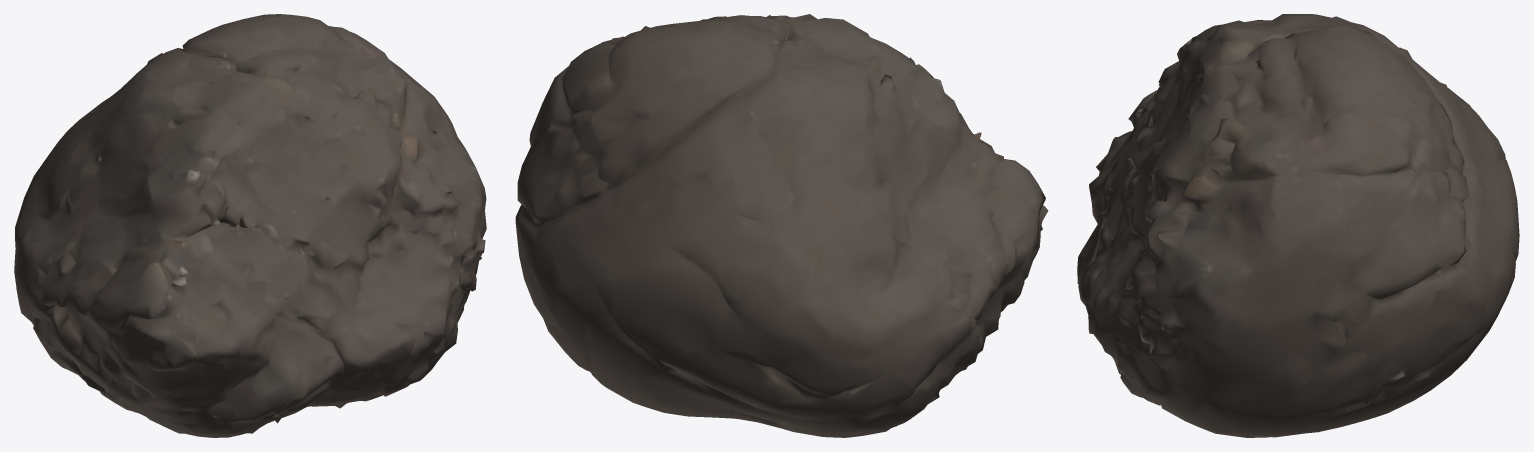
The model's file is stone.glb.
3 renders of one model, left to right at view 1: azimuth 30°, elevation 25°; view 2: azimuth 150°, elevation 25°; view 3: azimuth 270°, elevation 25°, orthographic. The views are drawn at different scales.
Parts seen in each view (by area): view 1: tripo_node_7ab4fa5d-9581-4aac-886c-582c1199e64b; view 2: tripo_node_7ab4fa5d-9581-4aac-886c-582c1199e64b; view 3: tripo_node_7ab4fa5d-9581-4aac-886c-582c1199e64b.
Part boxes in pixels (x1=…): tripo_node_7ab4fa5d-9581-4aac-886c-582c1199e64b: x1=14, y1=14, x2=486, y2=437; tripo_node_7ab4fa5d-9581-4aac-886c-582c1199e64b: x1=515, y1=14, x2=1048, y2=437; tripo_node_7ab4fa5d-9581-4aac-886c-582c1199e64b: x1=1077, y1=14, x2=1519, y2=437.
Bounding box in the file's own units: 1 × 0.8032 × 0.9056.
1 material, 1 textured.
